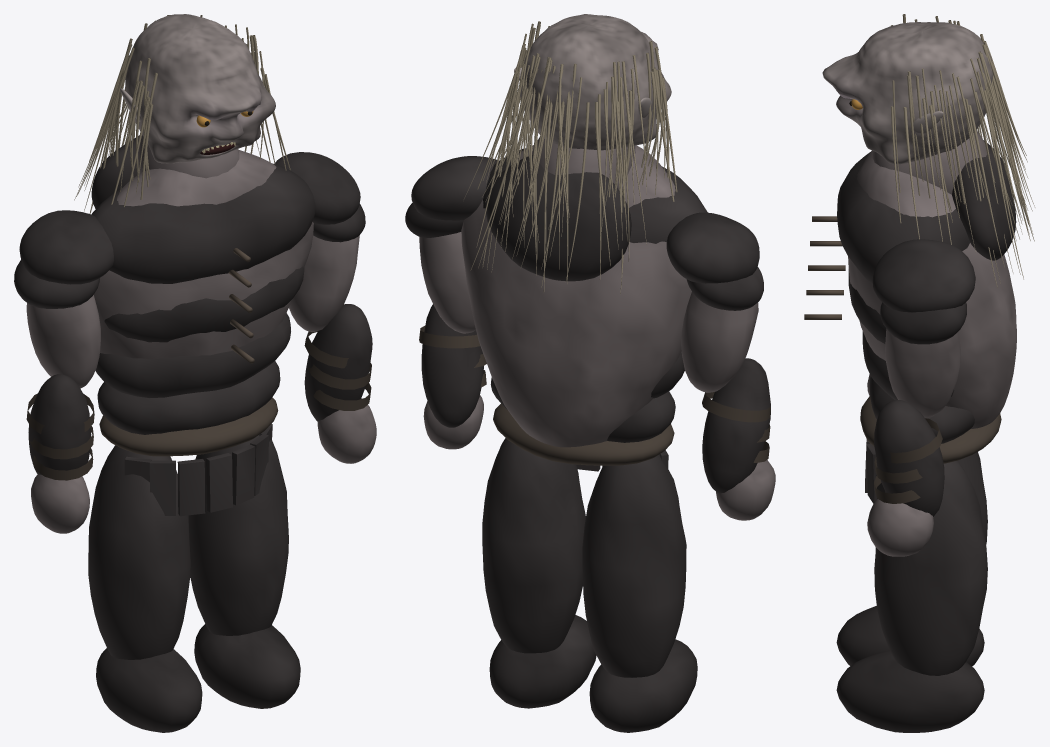
Rendered from orc.glb.
3 renders of one model, left to right at view 1: azimuth 30°, elevation 25°; view 2: azimuth 150°, elevation 25°; view 3: azimuth 270°, elevation 25°, orthographic. The views are drawn at different scales.
Visible parts, largest first — view 1: Leg, Plate, Head, Torso, Leg.001, Plate.002, Boot, Boot.001, Plate.003, Pauldron, Plate.001, OrcHair (+22 smaller); view 2: Torso, Leg, Leg.001, OrcHair, Collar, Head, Boot, Boot.001, Forearm, Pauldron, UpperArm, Forearm.001 (+13 smaller); view 3: Leg.001, Head, Torso, OrcHair, Boot.001, Pauldron.002, Plate, Forearm.001, UpperArm.001, Collar, Fist.001, Pauldron.003 (+12 smaller).
Part boxes in pixels (x1,y1,x2,y2): Leg: [88, 445, 190, 659]; Plate: [91, 163, 315, 283]; Head: [125, 14, 275, 163]; Torso: [94, 149, 313, 358]; Leg.001: [188, 435, 288, 635]; Plate.002: [95, 313, 290, 397]; Boot: [96, 648, 202, 732]; Boot.001: [194, 624, 300, 708]; Plate.003: [97, 361, 280, 434]; Pauldron: [19, 210, 113, 284]; Plate.001: [104, 266, 304, 342]; OrcHair: [74, 15, 290, 213]; Torso: [461, 145, 691, 447]; Leg: [582, 454, 686, 677]; Leg.001: [482, 438, 585, 653]; OrcHair: [463, 21, 677, 294]; Collar: [485, 155, 631, 281]; Head: [520, 14, 671, 150]; Boot: [589, 639, 697, 732]; Boot.001: [489, 615, 596, 708]; Forearm: [702, 358, 770, 493]; Pauldron: [666, 212, 759, 283]; UpperArm: [681, 292, 758, 392]; Forearm.001: [421, 304, 483, 427]; Leg.001: [874, 460, 987, 675]; Head: [822, 22, 993, 164]; Torso: [848, 150, 1016, 428]; OrcHair: [891, 14, 1035, 287]; Boot.001: [836, 650, 984, 732]; Pauldron.002: [872, 239, 975, 312]; Plate: [837, 152, 969, 282]; Forearm.001: [874, 400, 944, 516]; UpperArm.001: [885, 328, 960, 418]; Collar: [952, 140, 1016, 260]; Fist.001: [867, 499, 933, 556]; Pauldron.003: [880, 302, 966, 344].
Size of the model in its own units: 1.09 by 2.1 by 0.6501.
